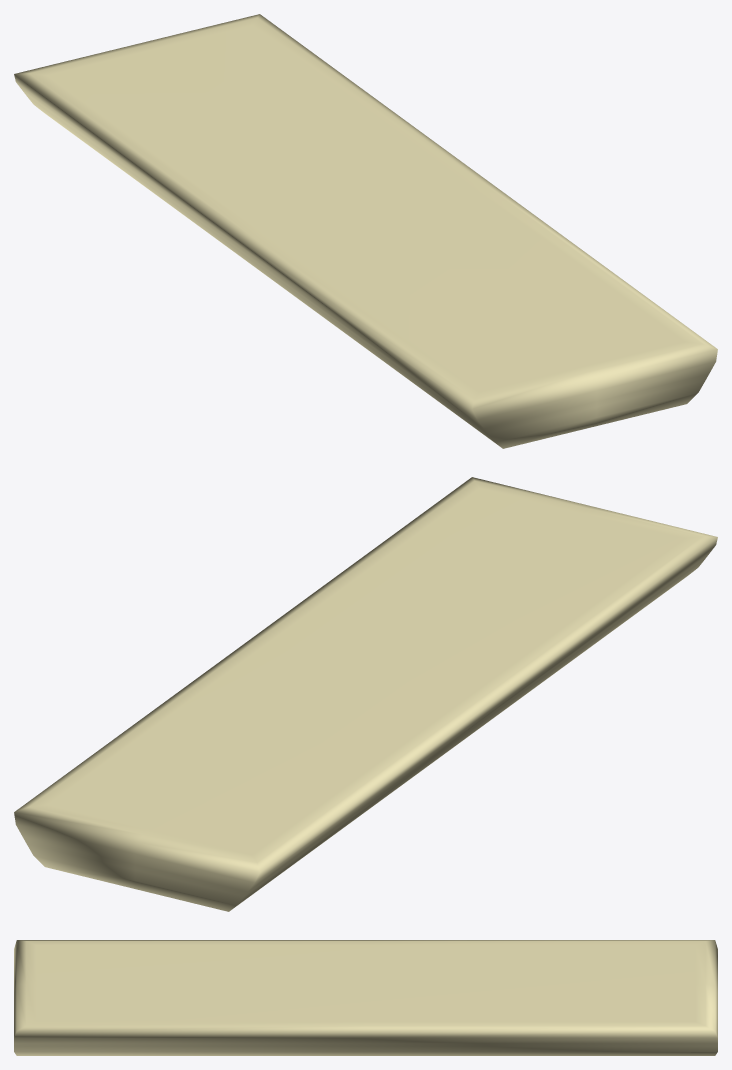
File: LEDGE.gltf
3 renders of one model, top to bottom at view 1: azimuth 30°, elevation 25°; view 2: azimuth 150°, elevation 25°; view 3: azimuth 270°, elevation 25°, orthographic. The views are drawn at different scales.
Parts seen in each view (by area): view 1: LEDGE; view 2: LEDGE; view 3: LEDGE.
Part boxes in pixels (bbox=[...]): LEDGE: bbox=[14, 14, 717, 448]; LEDGE: bbox=[14, 477, 717, 911]; LEDGE: bbox=[14, 940, 717, 1055].
Bounding box in the file's own units: 0.3963 × 0.0818 × 1.29.
